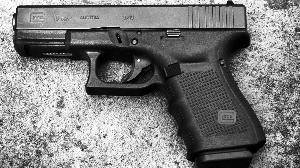handgun: (12, 0, 268, 154)
